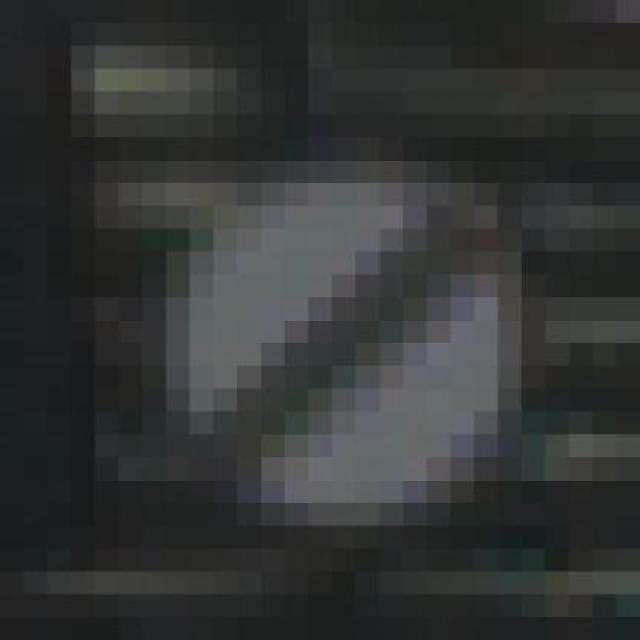End of all speed and passing limits: (142, 160, 546, 549)
